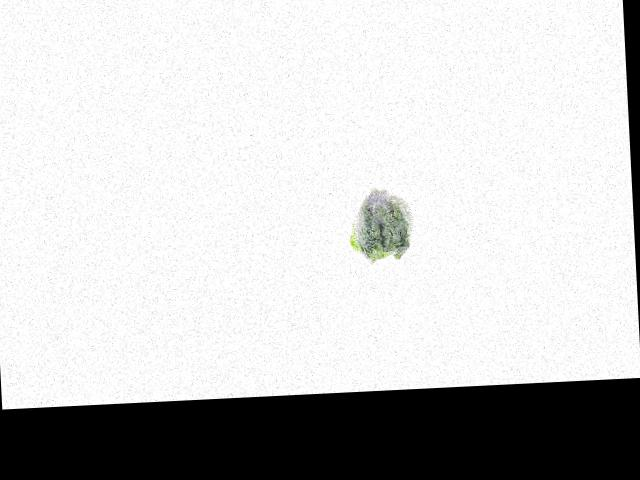lettuce: (343, 186, 417, 263)
